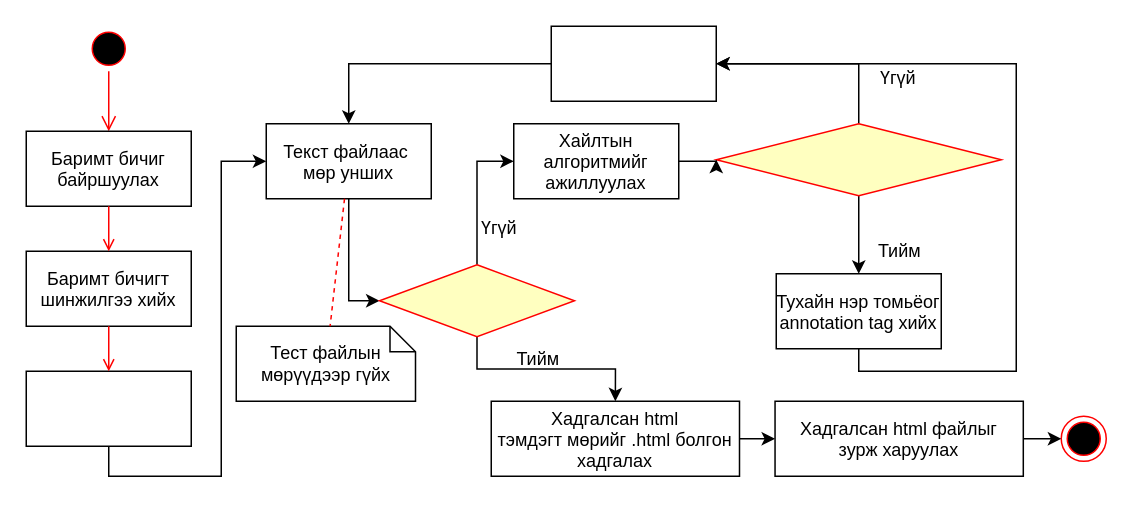
This 1133x515 diagram has some shape labels left out. The shapes that lost their labels are listed below. From the top down, each one's centre as x and y in pixels, then its label:
(633,63): Тэмдэг мөрийг html тэмдэгт мөр болгон хадгална
(858,159): Нэр томьёо олдсон эсэх
(476,300): Мөр хоосон эсэх
(108,408): Баримт бичгийг текст файл руу хөрвүүлэх
